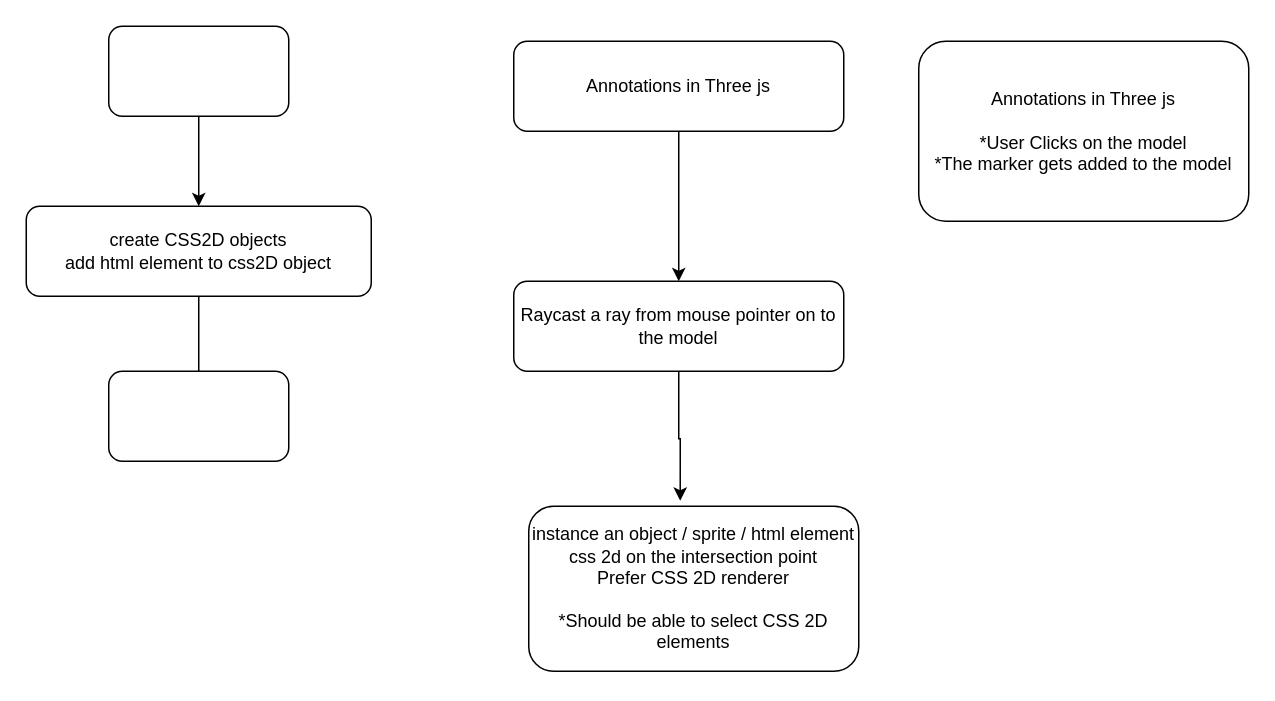
The diagram is 1275 pixels wide and 701 high, and some of its shapes have lost their labels. Here are the shapes that lost their labels. From the top down, the box of each, then its label:
(107, 25, 289, 116): create CSS 2D renderer
(107, 370, 289, 461): add CSS2D object to the scene
